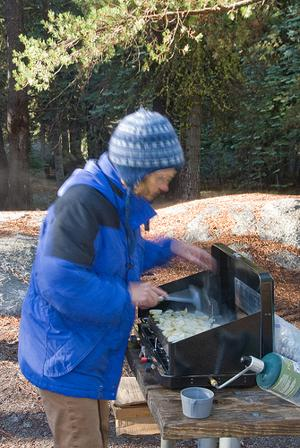person: (18, 111, 183, 446)
